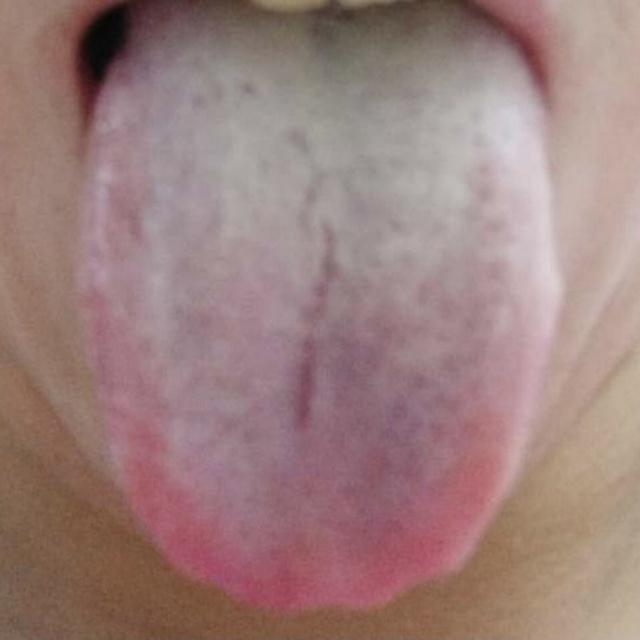baitaishe: (79, 1, 562, 615)
liewenshe: (286, 216, 341, 428)
